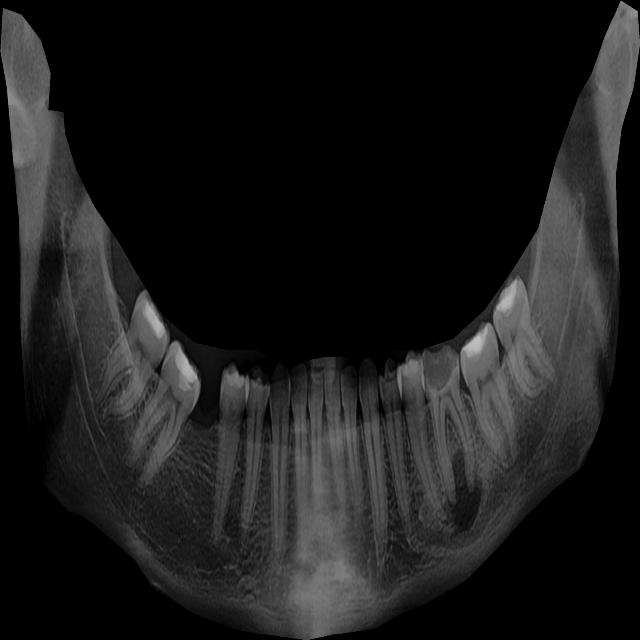mandibula: (0, 0, 640, 640)
